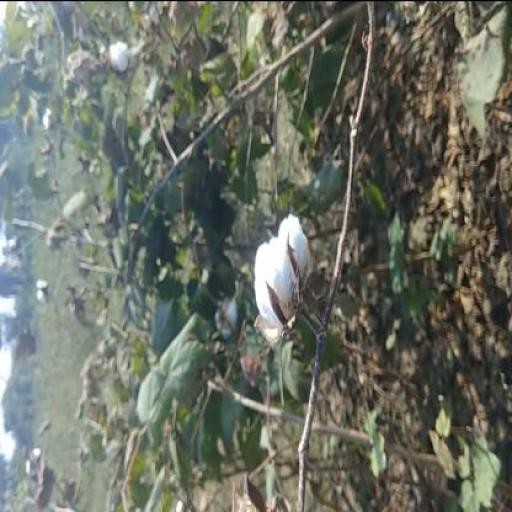cotton_ready: (235, 207, 350, 375)
